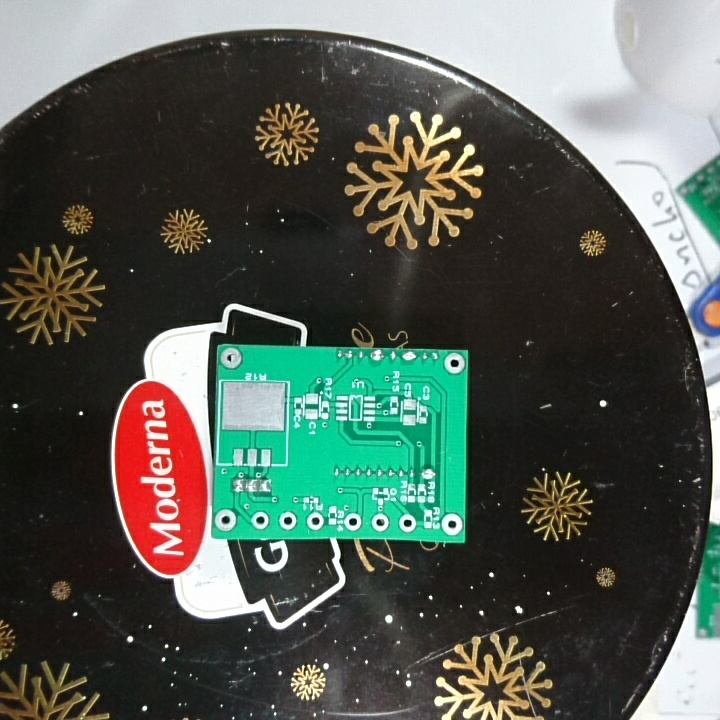F: (439, 511, 464, 538), (214, 507, 237, 533), (442, 352, 465, 376), (219, 346, 242, 370), (368, 510, 391, 533), (397, 512, 418, 535), (277, 509, 297, 531), (342, 512, 362, 532), (251, 509, 270, 530), (306, 511, 325, 532)
P: (368, 347, 386, 366), (399, 349, 419, 365), (419, 466, 437, 481)
